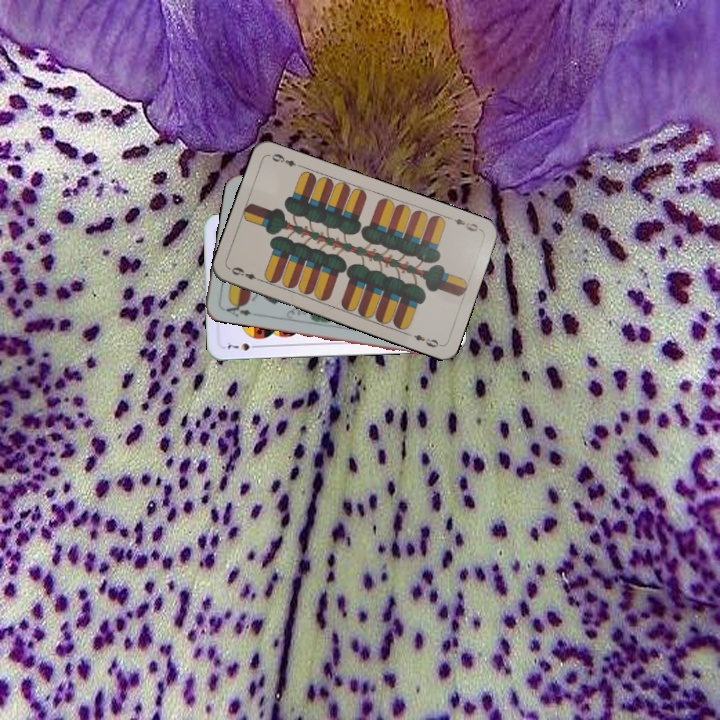E9: (444, 213, 484, 234), (227, 263, 265, 284)
EA: (219, 298, 254, 320)
S7: (222, 338, 262, 353)
